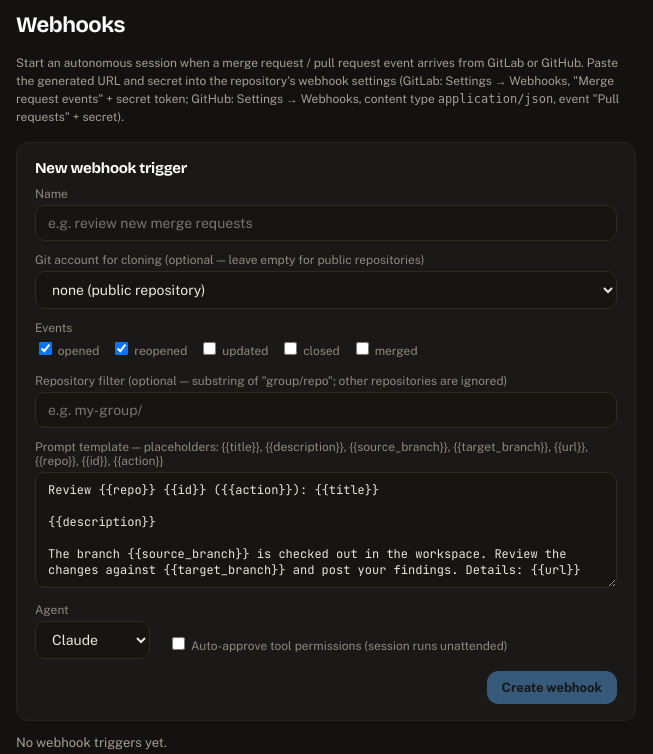
Scenario: WebhooksPane › shows API errors inline
Type "x" into the field with placeholder "e.g. review new merge requests" at [326, 223], box [35,205,617,241]
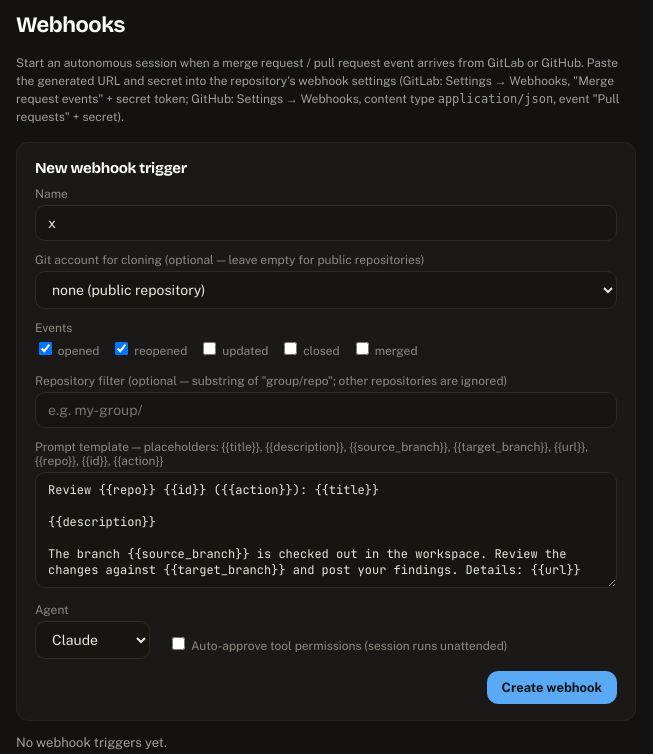
Click the button "Create webhook" at [552, 688], box [486,671,617,704]
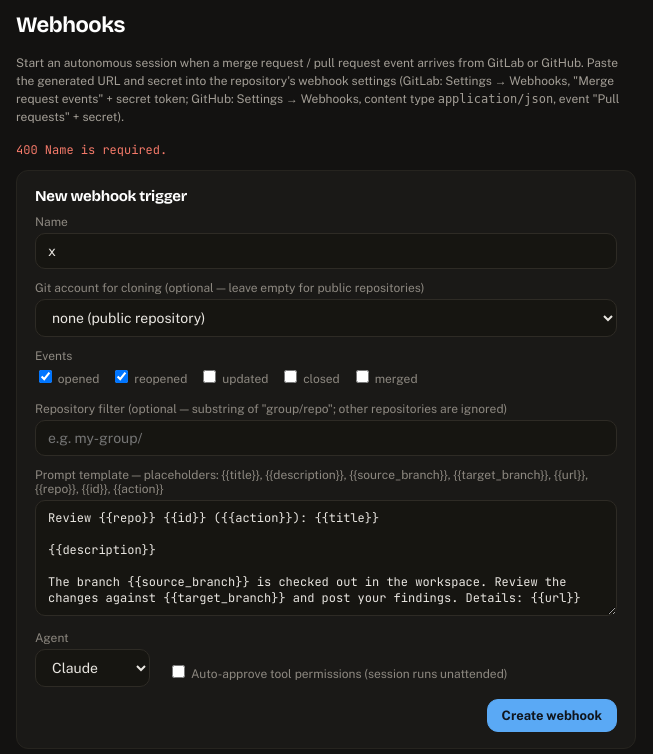
Now the text "400 Name is required." is shown, box [16,142,167,158]
